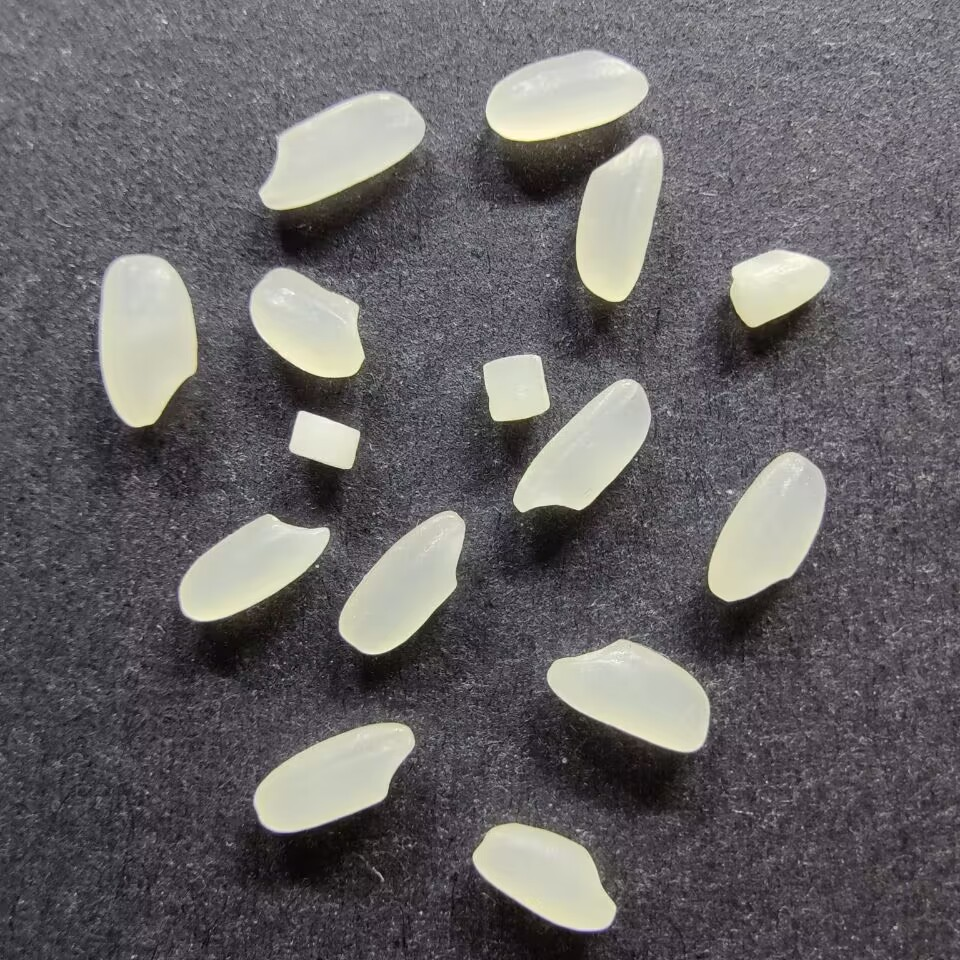broken: (727, 248, 832, 328), (478, 352, 552, 422), (286, 408, 364, 470)
rice: (259, 89, 427, 212), (510, 377, 654, 515), (335, 507, 466, 656), (545, 638, 711, 753), (251, 720, 416, 835), (708, 449, 828, 604), (98, 252, 199, 428), (179, 512, 332, 625), (469, 822, 618, 934), (571, 133, 664, 304), (480, 48, 648, 141), (248, 267, 366, 379)
